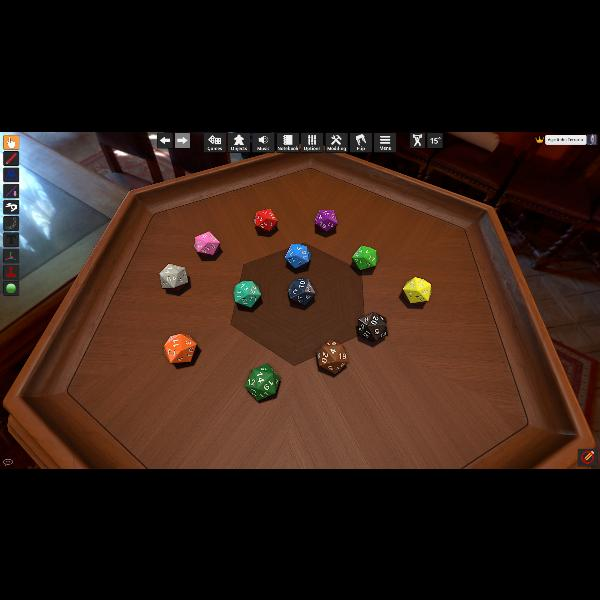d20: (243, 362, 281, 400), (164, 332, 198, 364), (316, 340, 348, 374), (159, 262, 189, 292), (286, 277, 314, 305), (357, 312, 385, 340), (234, 280, 260, 308), (352, 245, 378, 271), (406, 276, 432, 302), (284, 242, 308, 268), (194, 231, 218, 255), (255, 208, 278, 231), (314, 208, 336, 231)
